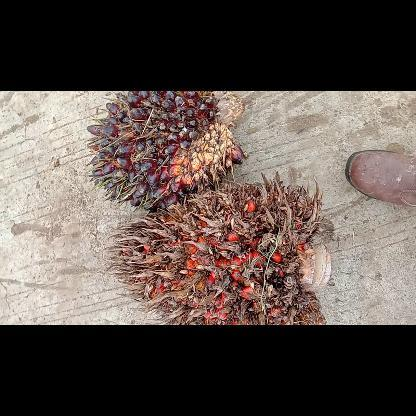TBS mentah: (86, 90, 242, 212)
Terlalu masak: (104, 172, 330, 324)
